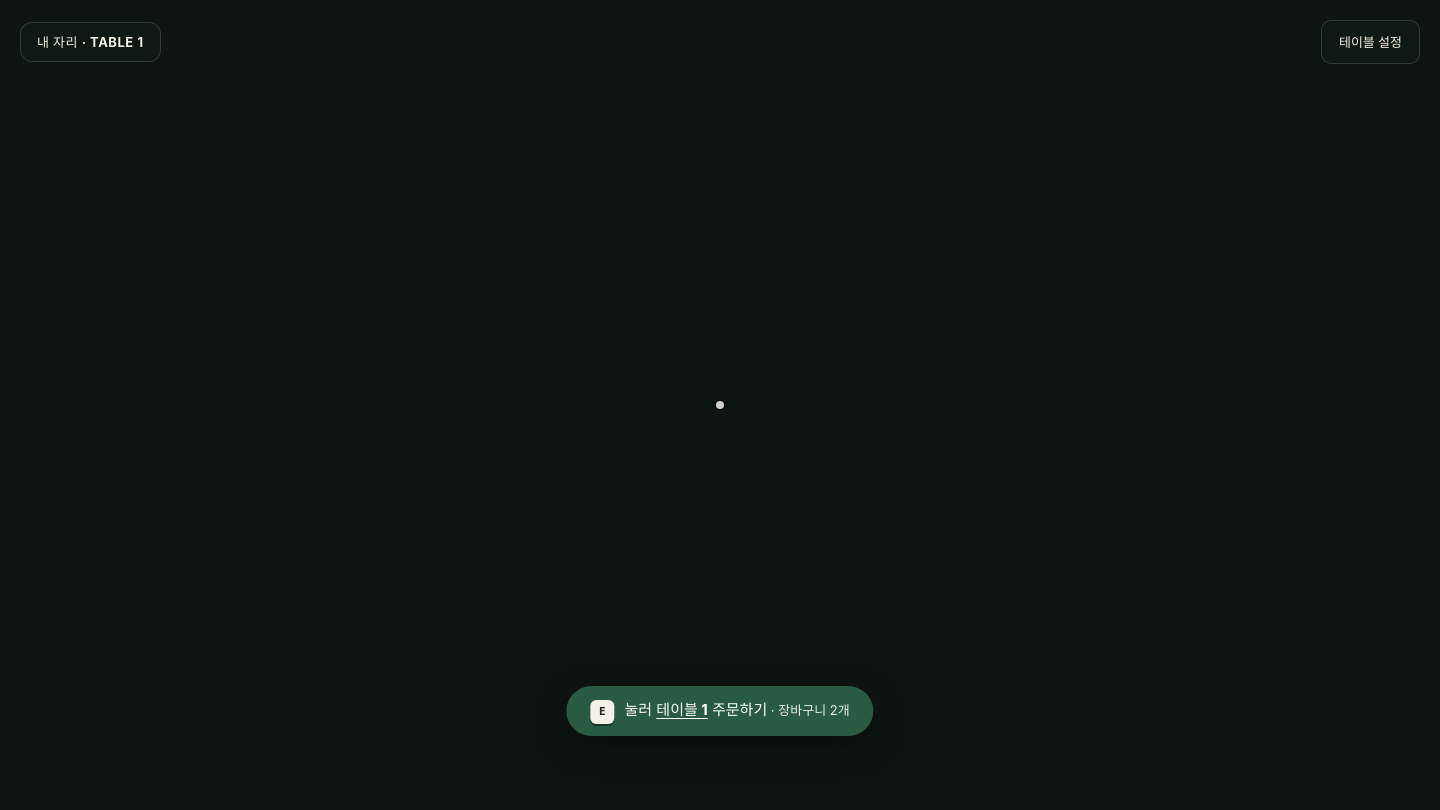
Test case: keeps the cart when an order is rejected
Step 1. Press KeyE
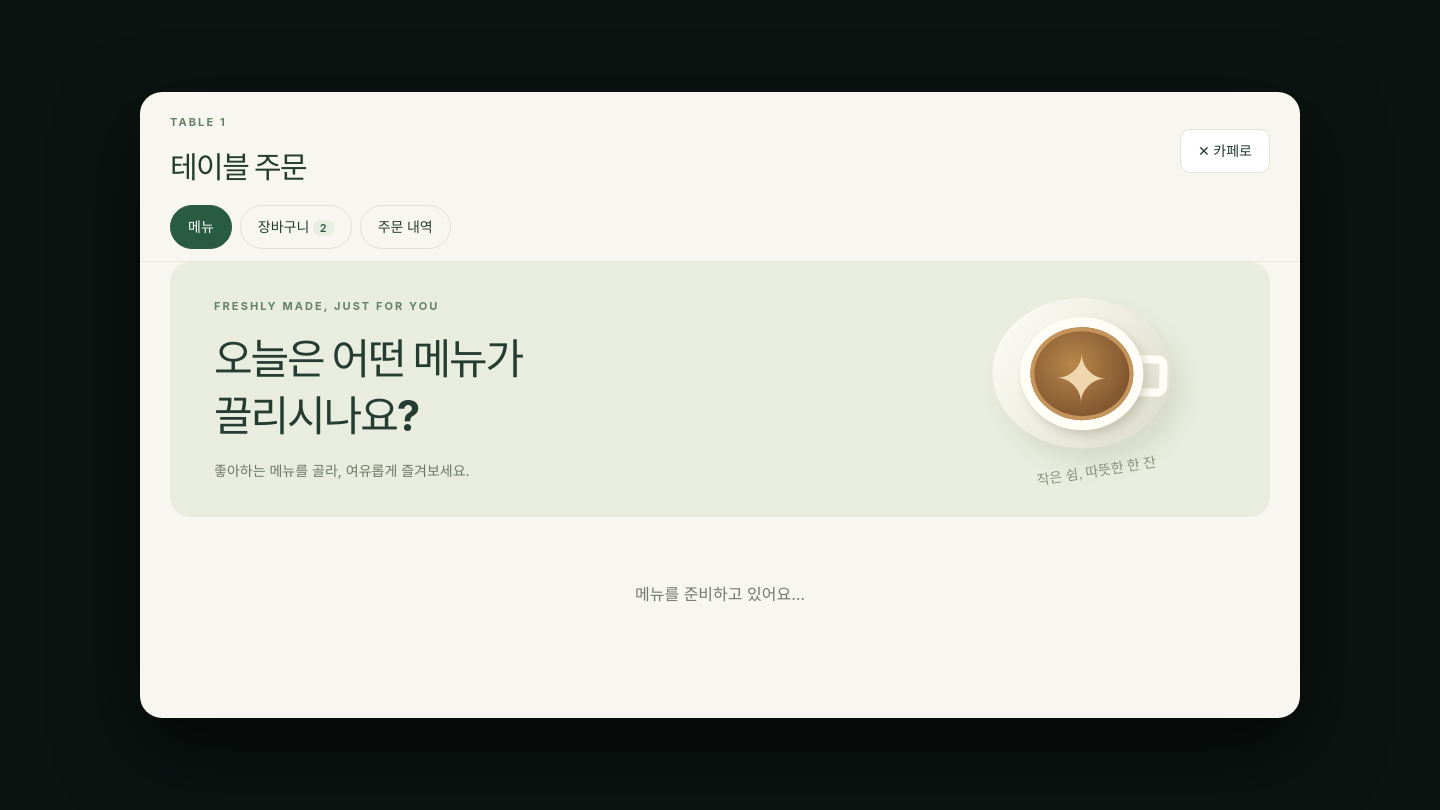
Step 2. Click the button with test id "tab-cart" → (296, 227), box [240,205,352,249]
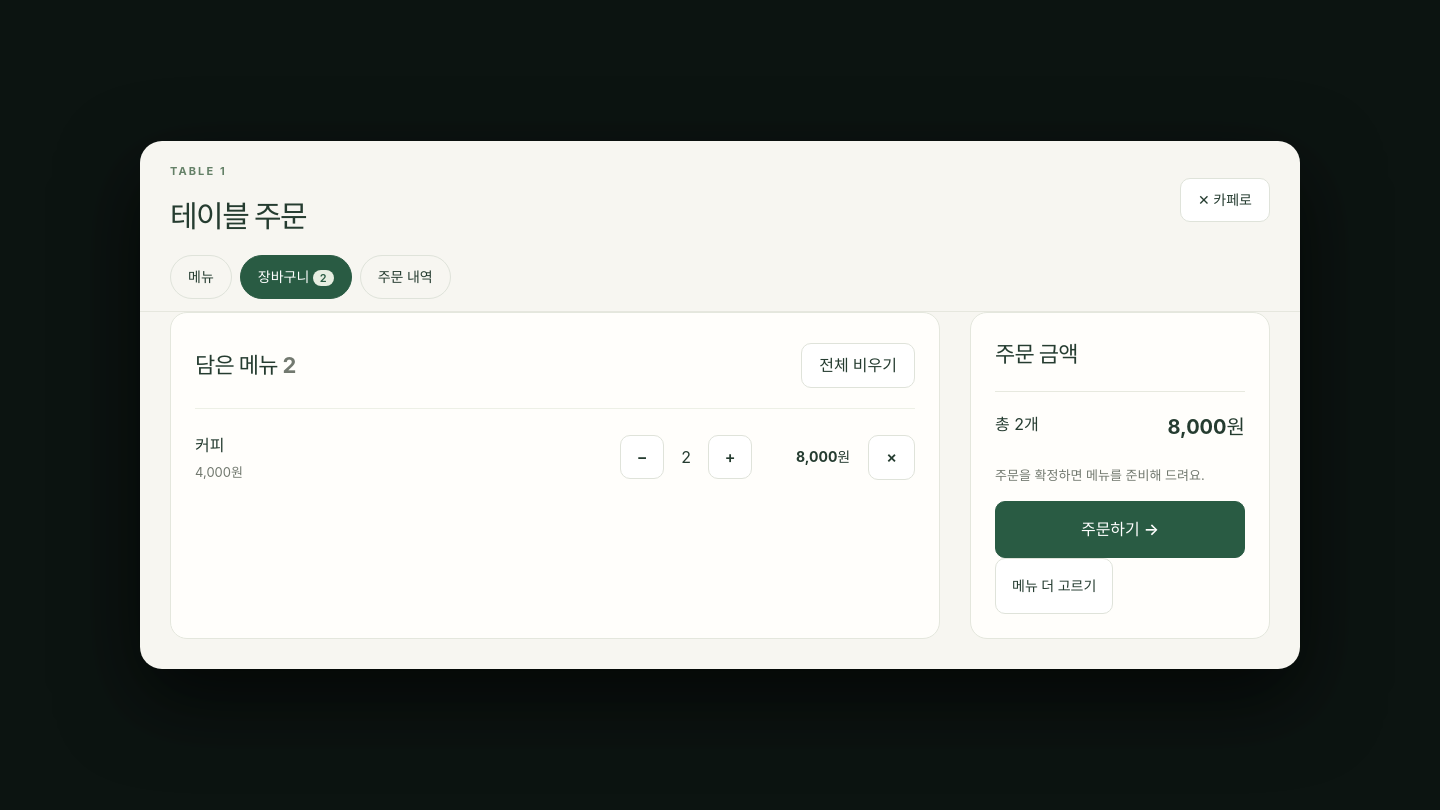
Step 3. Click the button with test id "cart-checkout-button" → (1120, 530), box [995,501,1245,558]
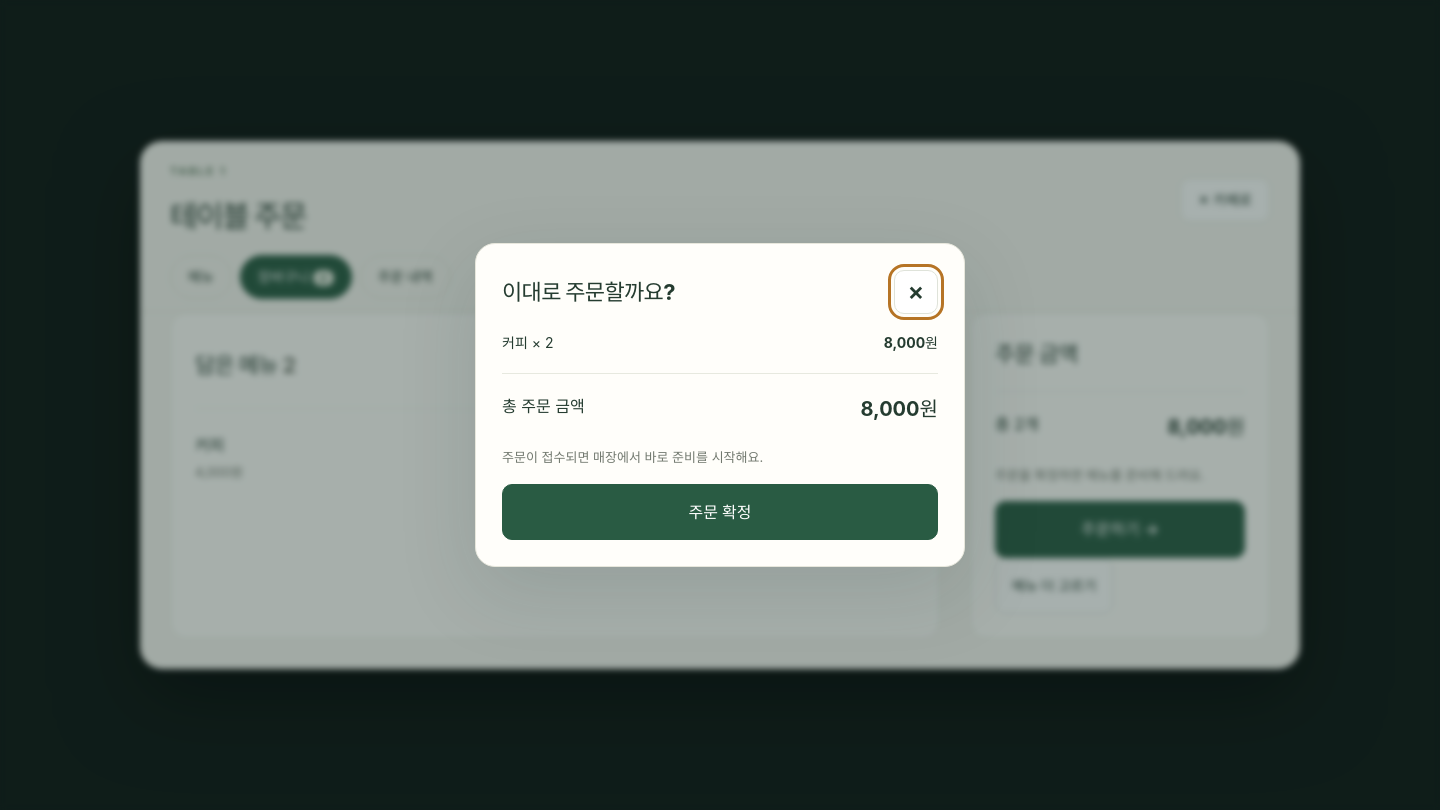
Step 4. Click the button with test id "order-confirm-submit-button" → (720, 512), box [502,484,938,540]
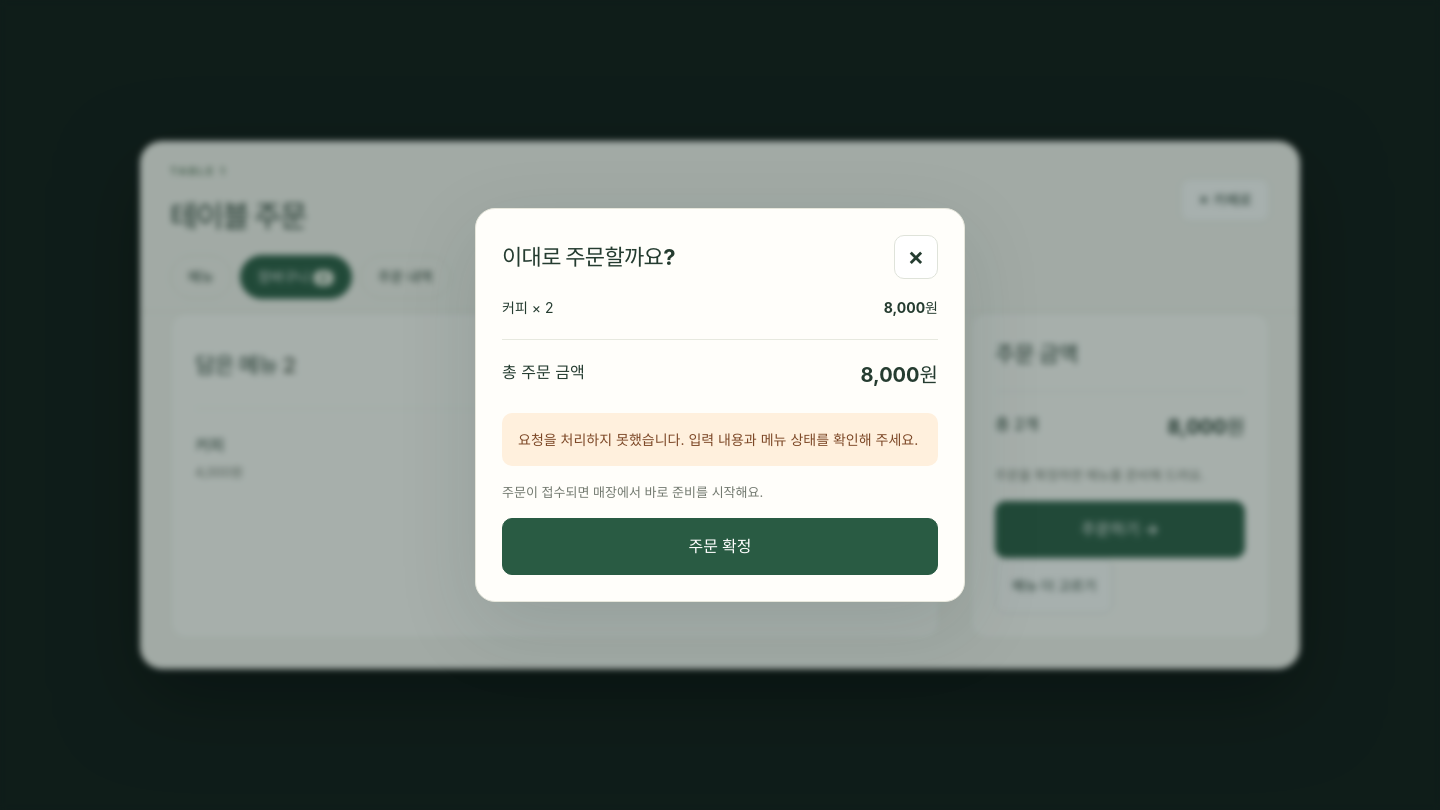
Expected: the message shows "요청", [502,412,938,466]
